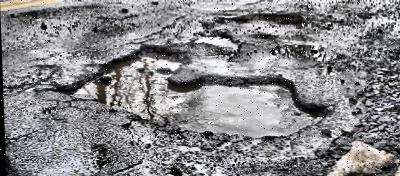pothole: (52, 42, 327, 138), (225, 10, 302, 25), (194, 32, 239, 51)
